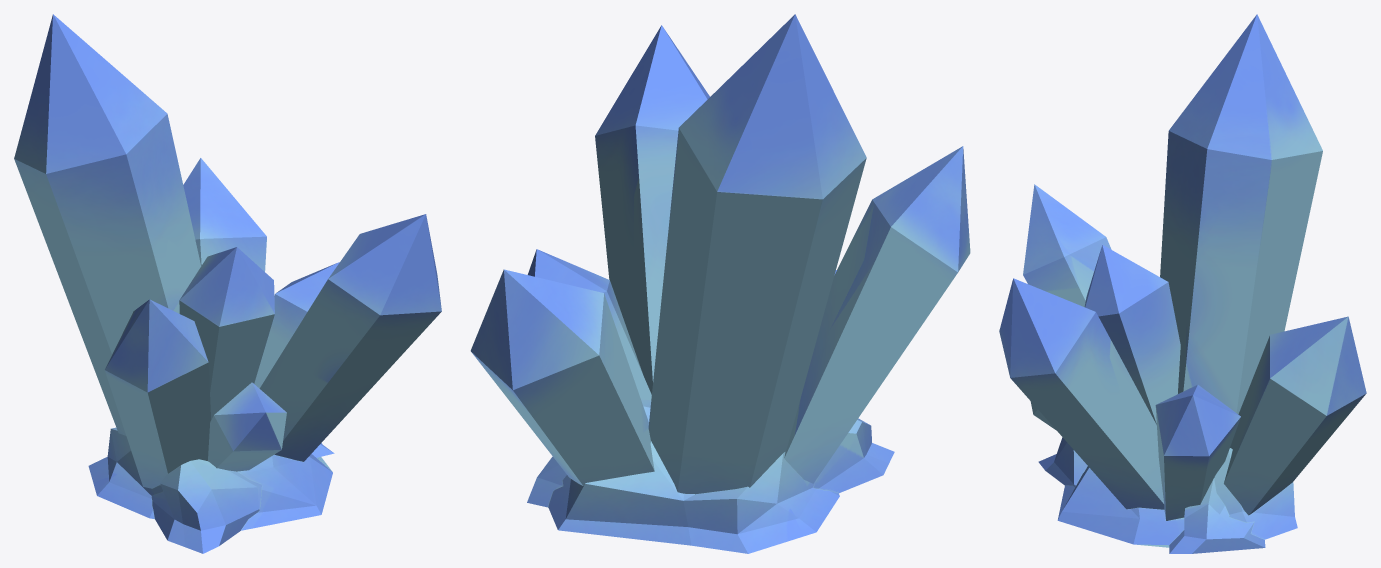
File: Crystal.fbx
3 renders of one model, left to right at view 1: azimuth 30°, elevation 25°; view 2: azimuth 150°, elevation 25°; view 3: azimuth 270°, elevation 25°, orthographic. The views are drawn at different scales.
Visible parts, largest first — view 1: Icosphere; view 2: Icosphere; view 3: Icosphere.
Boxes of the visible parts, x1,y1,x2,y2 form: Icosphere: (14, 14, 441, 553); Icosphere: (470, 14, 970, 553); Icosphere: (999, 14, 1366, 553).
Bounding box in the file's own units: 308 × 426 × 328.
Materials: 1 (1 with a texture image).
